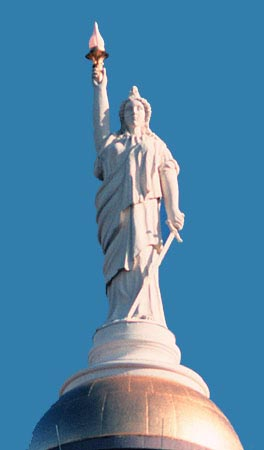person-like: (86, 24, 191, 333)
